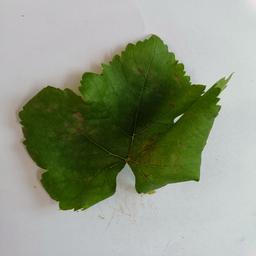Powdery-Mildew: (58, 108, 97, 141), (91, 64, 121, 96), (138, 138, 164, 166), (46, 98, 63, 114), (169, 152, 186, 168)
